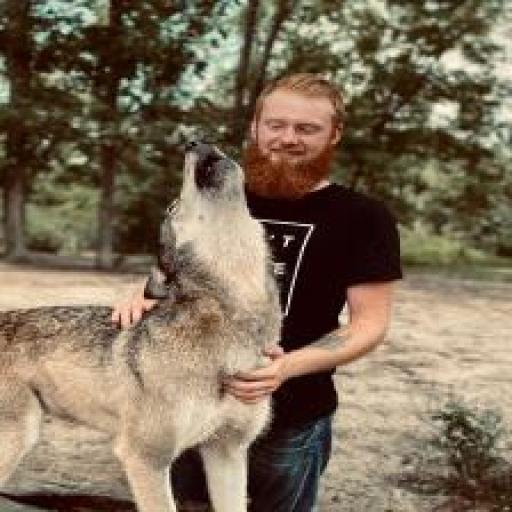wolf: (0, 128, 325, 511)
